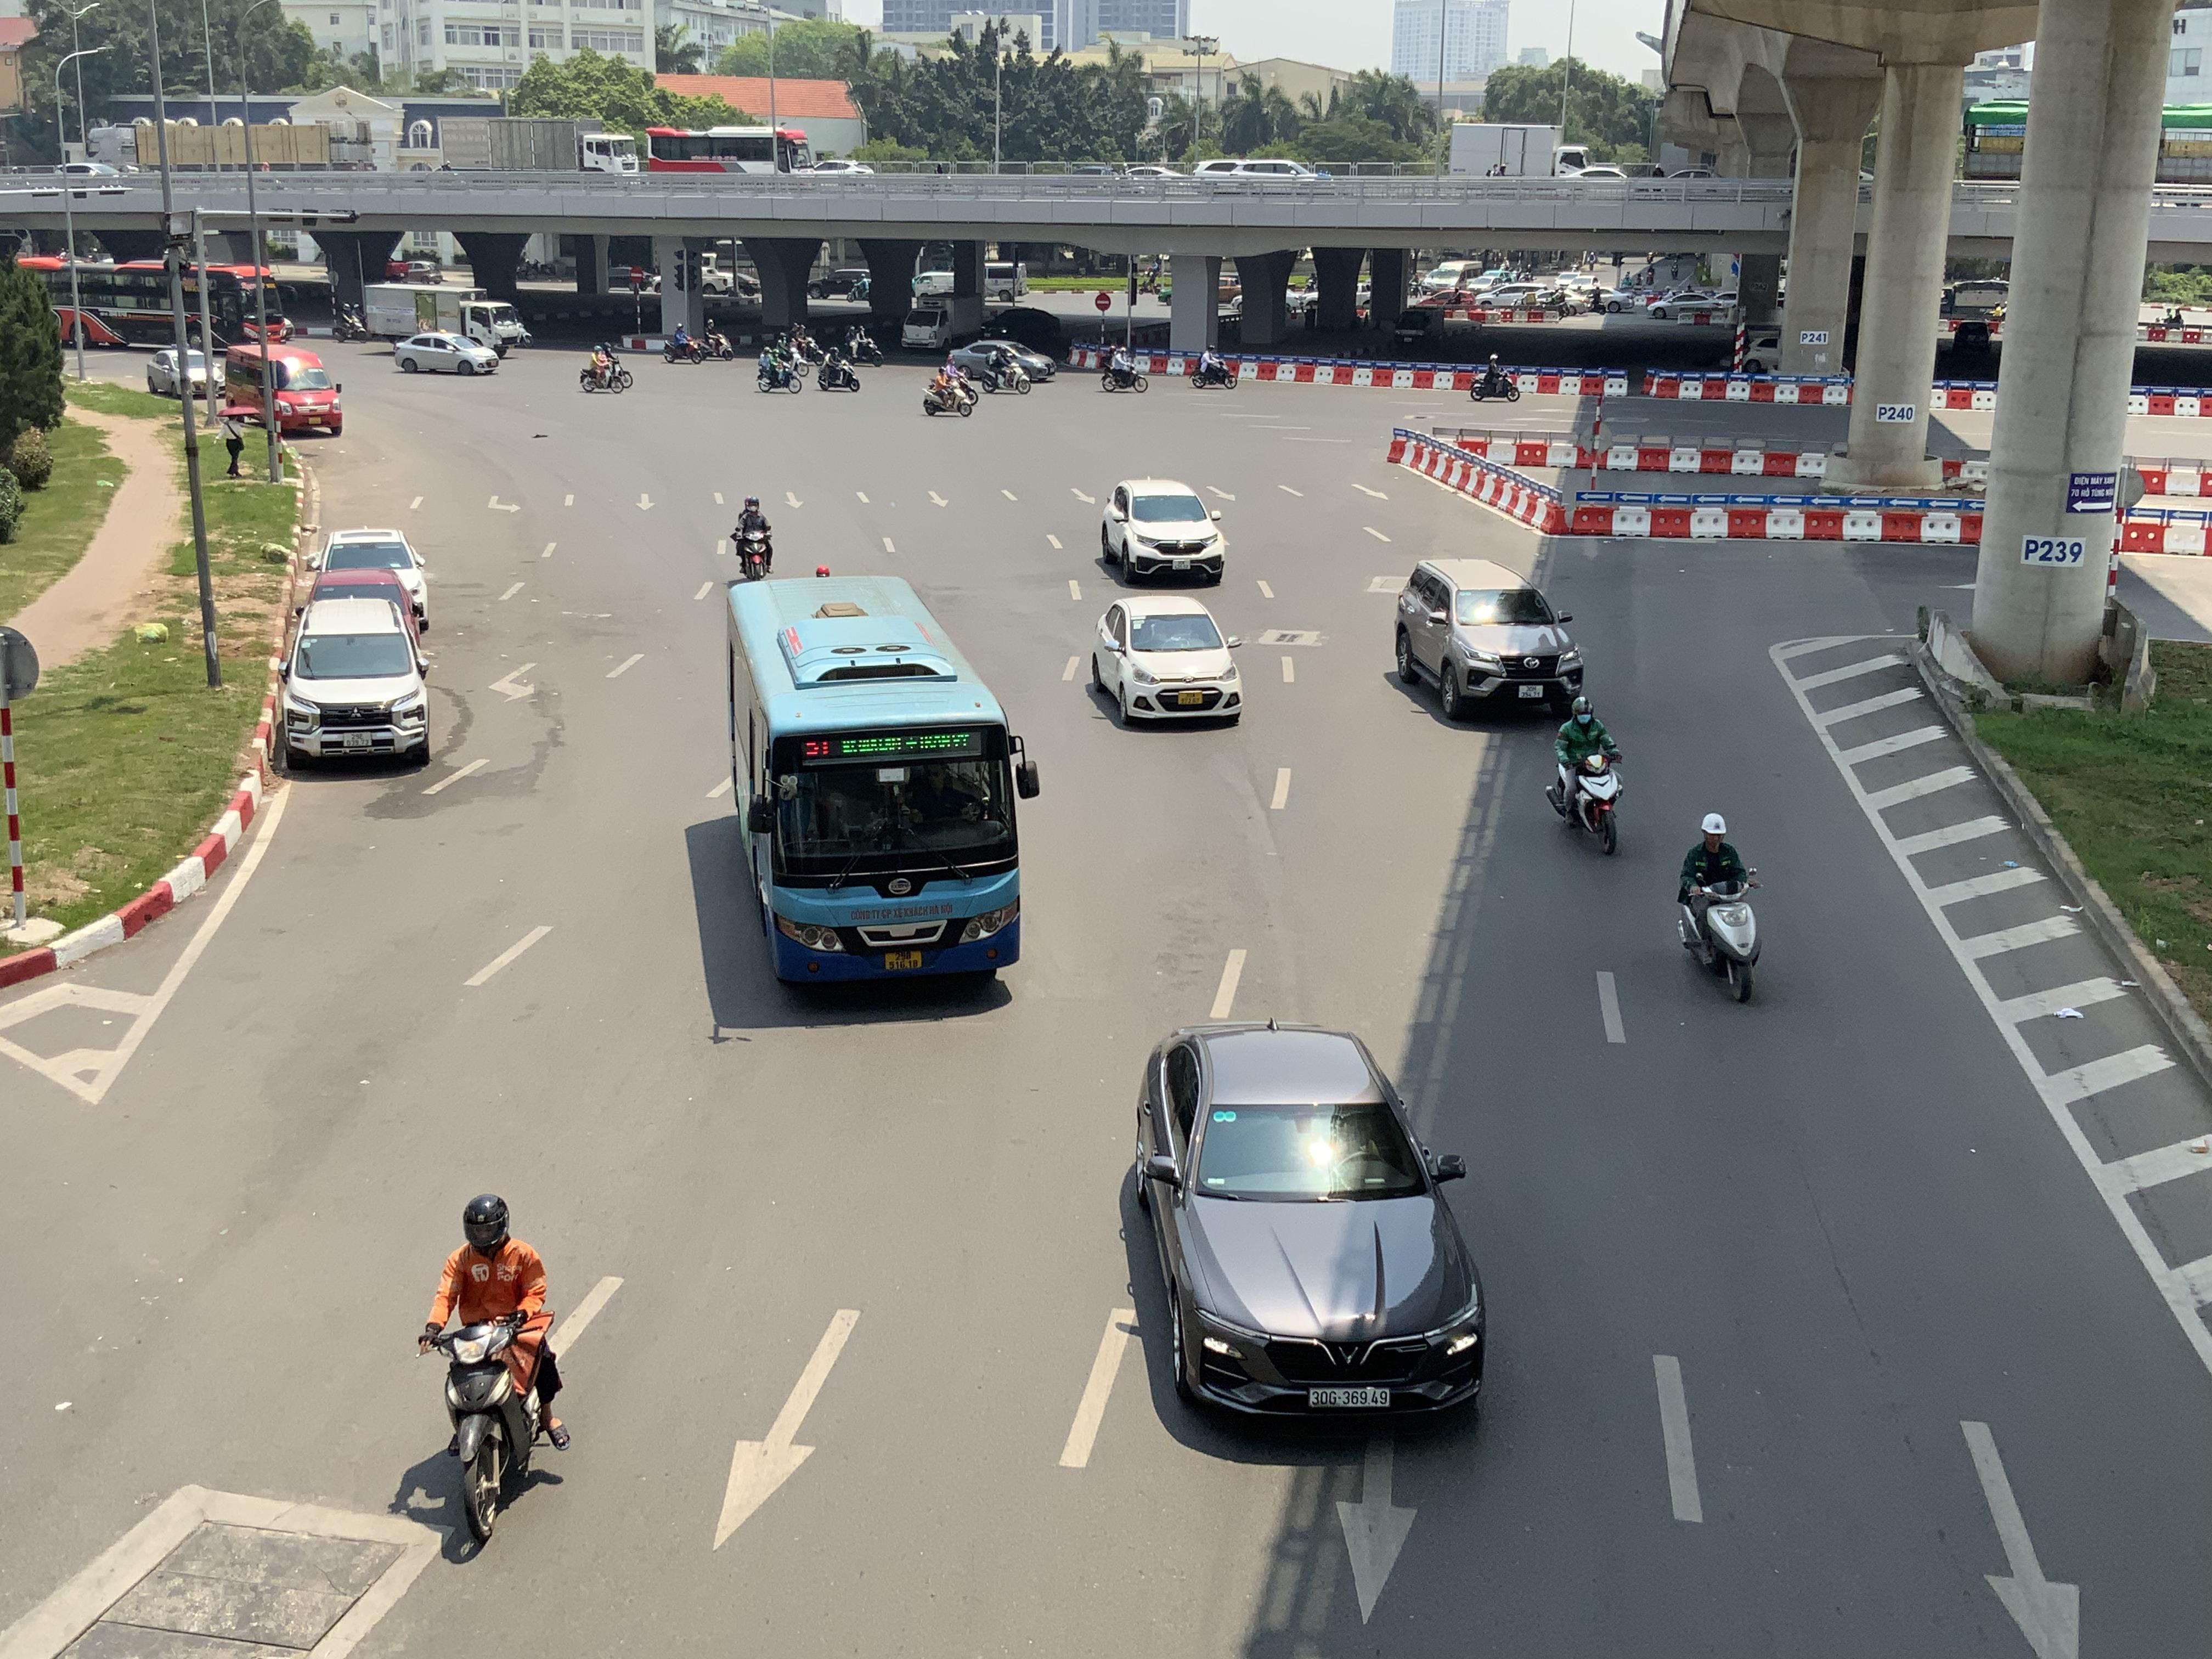BSD: (1308, 1385, 1390, 1406), (338, 735, 378, 749)
BSV: (885, 950, 921, 971), (1515, 683, 1543, 697)
bus: (723, 572, 1042, 988), (21, 253, 287, 345), (641, 124, 812, 171)
car: (1118, 1021, 1489, 1427), (1392, 558, 1585, 721), (272, 596, 434, 770), (1087, 594, 1244, 728), (305, 526, 430, 636), (1099, 477, 1226, 586), (216, 345, 343, 436), (944, 336, 1057, 385), (394, 329, 500, 375), (146, 345, 218, 397), (1644, 291, 1719, 319), (1474, 282, 1547, 303), (1581, 286, 1635, 312), (1416, 289, 1475, 307)
motorbike: (418, 1192, 570, 1561), (1677, 812, 1763, 1006), (1548, 695, 1623, 856), (730, 495, 773, 582), (921, 364, 974, 416), (1097, 343, 1150, 394), (1470, 350, 1522, 401), (981, 345, 1033, 394), (815, 336, 860, 392), (754, 347, 803, 394), (578, 345, 622, 394), (1190, 347, 1238, 390), (662, 319, 705, 364), (841, 324, 885, 368), (942, 354, 979, 404), (695, 319, 735, 361), (773, 333, 810, 378), (786, 319, 822, 364), (599, 342, 634, 389)
truck: (361, 281, 519, 354), (488, 117, 639, 176), (1447, 120, 1590, 178), (900, 289, 982, 354)
